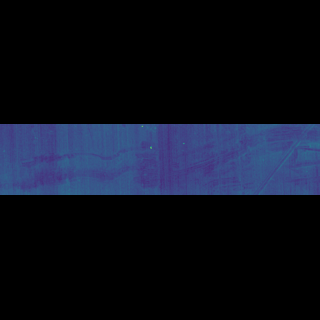Loch: (174, 151, 320, 168), (17, 156, 161, 168)
